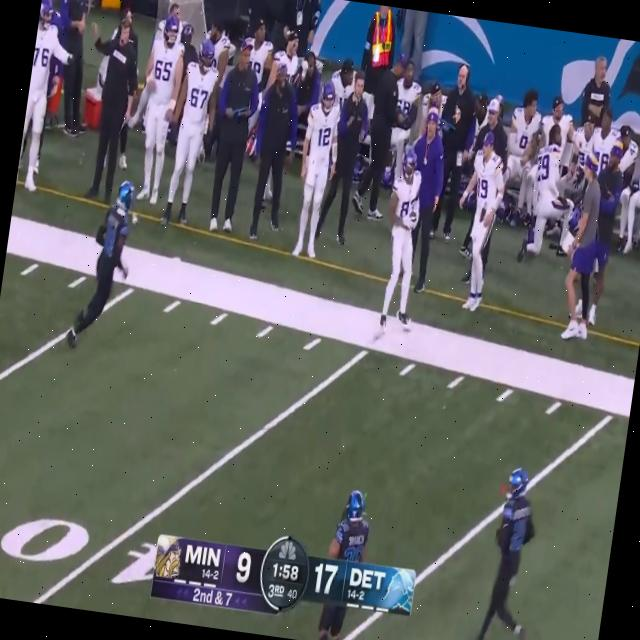Player: (369, 146, 434, 337), (448, 130, 514, 314), (129, 17, 189, 209), (287, 80, 348, 264), (15, 3, 72, 198), (76, 177, 138, 356), (165, 34, 221, 232), (481, 460, 542, 640), (523, 122, 572, 264), (326, 483, 377, 562)
